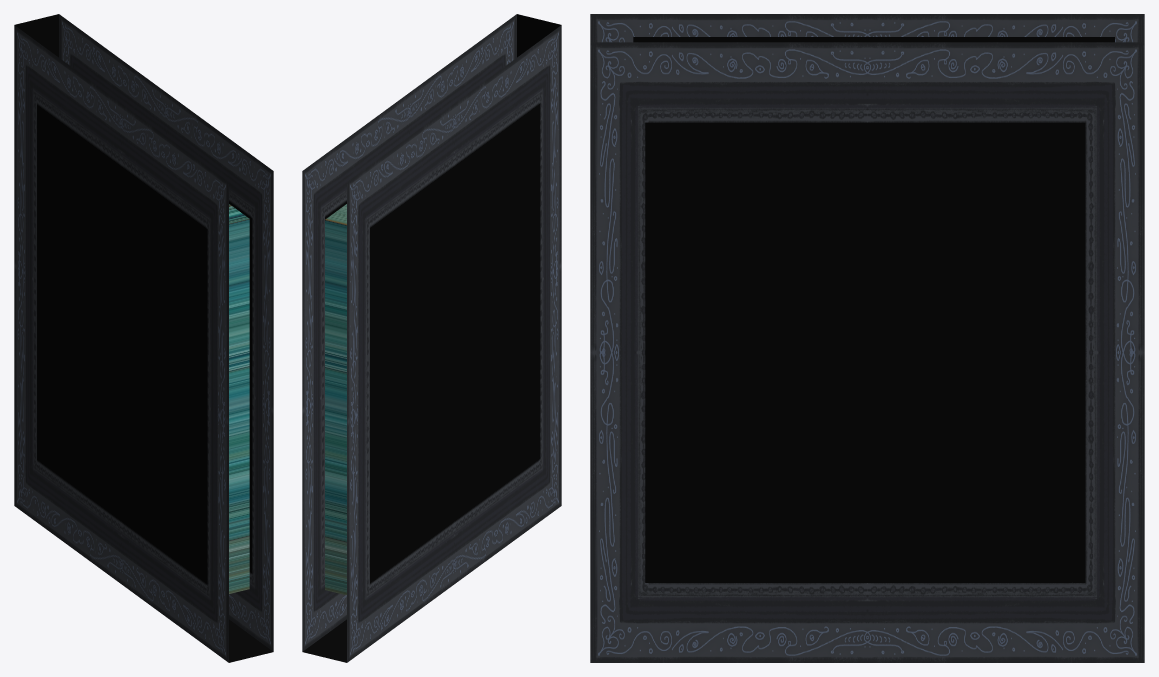
The model's file is AI_cat_rahmen.glb.
3 renders of one model, left to right at view 1: azimuth 30°, elevation 25°; view 2: azimuth 150°, elevation 25°; view 3: azimuth 270°, elevation 25°, orthographic. The views are drawn at different scales.
Parts seen in each view (by area): view 1: 2D_Bilderrahmen_dark, Plane; view 2: 2D_Bilderrahmen_dark, Plane; view 3: 2D_Bilderrahmen_dark, Plane.001.
Boxes of the visible parts, bbox=[...] form: 2D_Bilderrahmen_dark: bbox=[14, 14, 273, 662]; Plane: bbox=[229, 204, 249, 593]; 2D_Bilderrahmen_dark: bbox=[302, 14, 561, 662]; Plane: bbox=[325, 204, 346, 595]; 2D_Bilderrahmen_dark: bbox=[590, 14, 1144, 662]; Plane.001: bbox=[633, 37, 1114, 42].
Size of the model in its own units: 0.4417 by 4.53 by 3.67.
3 materials, 2 textured.
